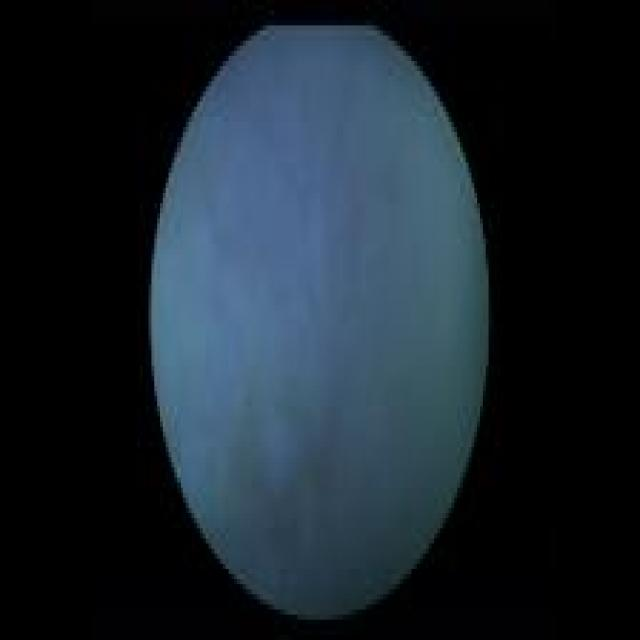blur: (152, 24, 490, 619)
